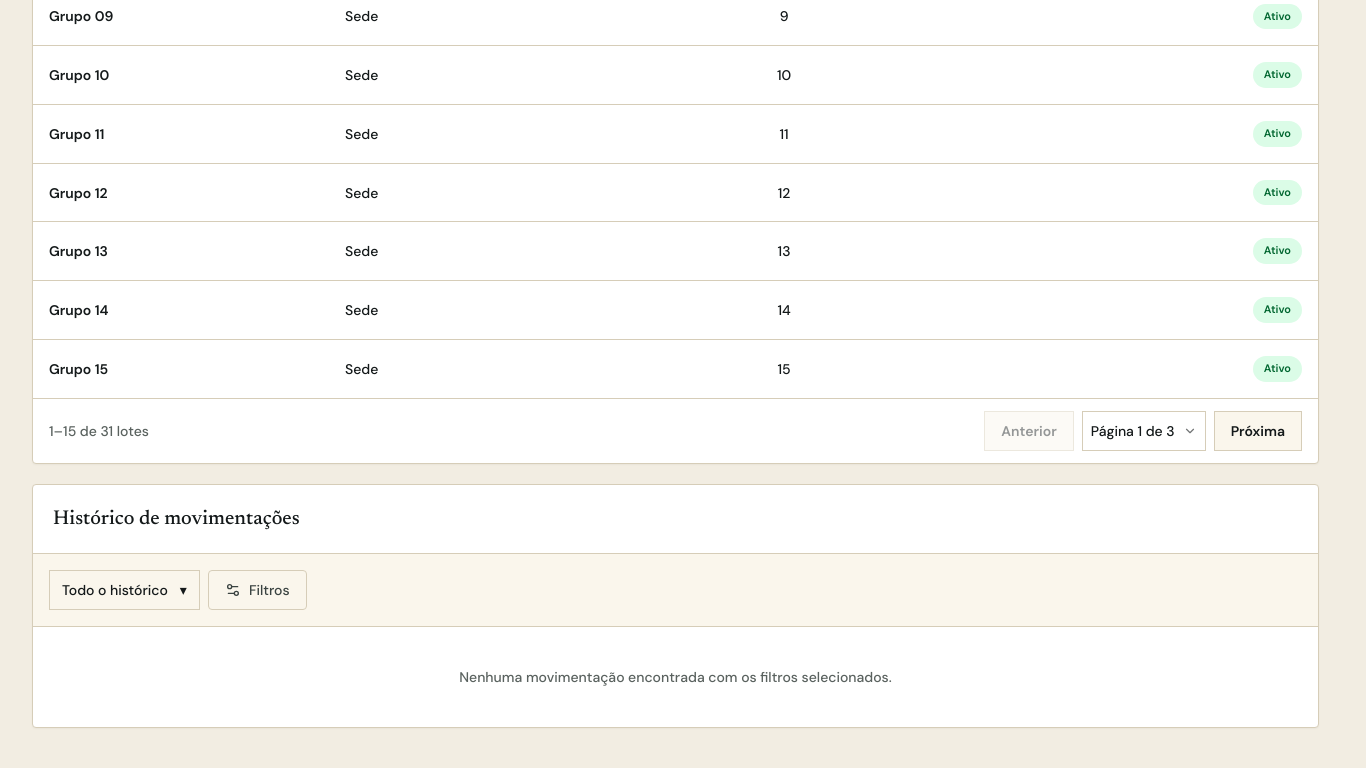
Test case: Lotes do rebanho › pagina 15 lotes e reinicia ao buscar
The width and height of the screenshot is (1366, 768).
(page scrolled)
Click the button "Próxima" at (1258, 430), box 1214,410 -> 1302,450
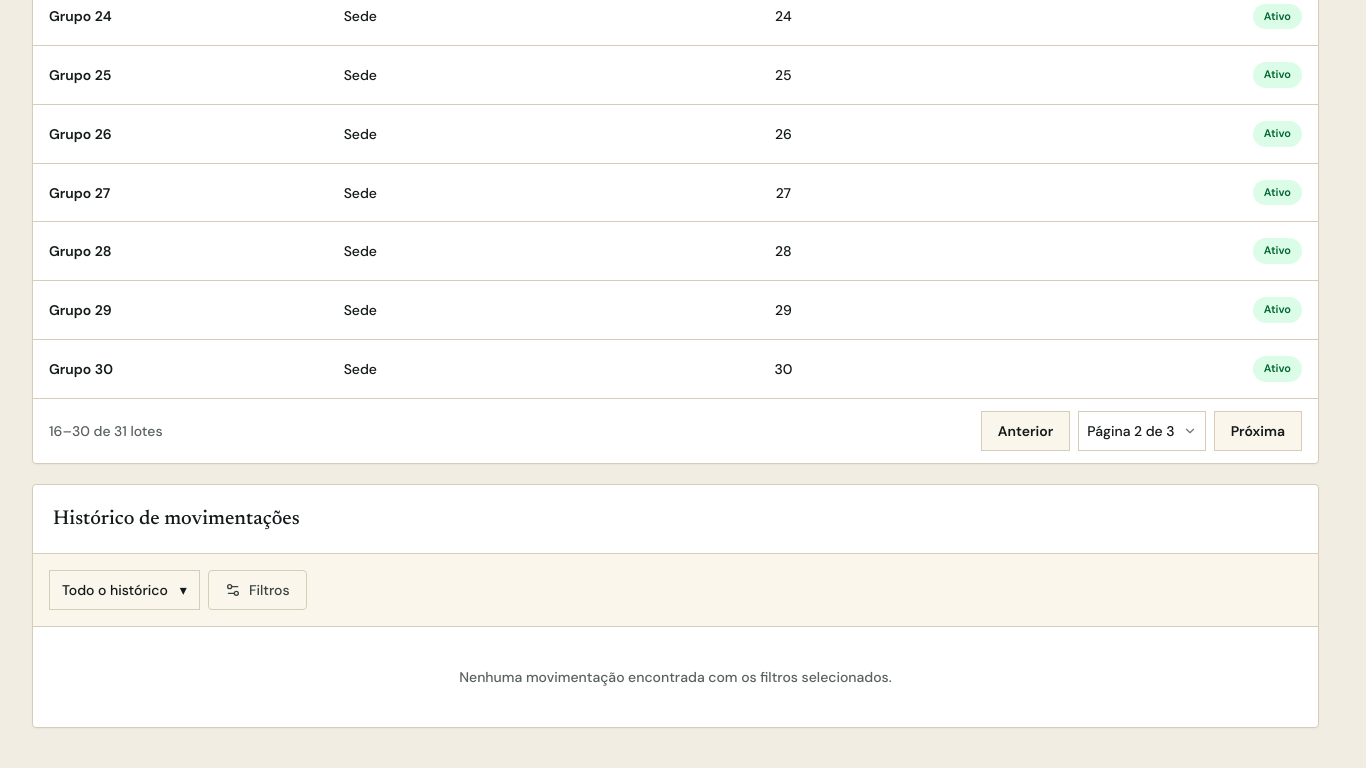
Click the button "Próxima" at (1258, 430), box 1214,410 -> 1302,450
(page scrolled)
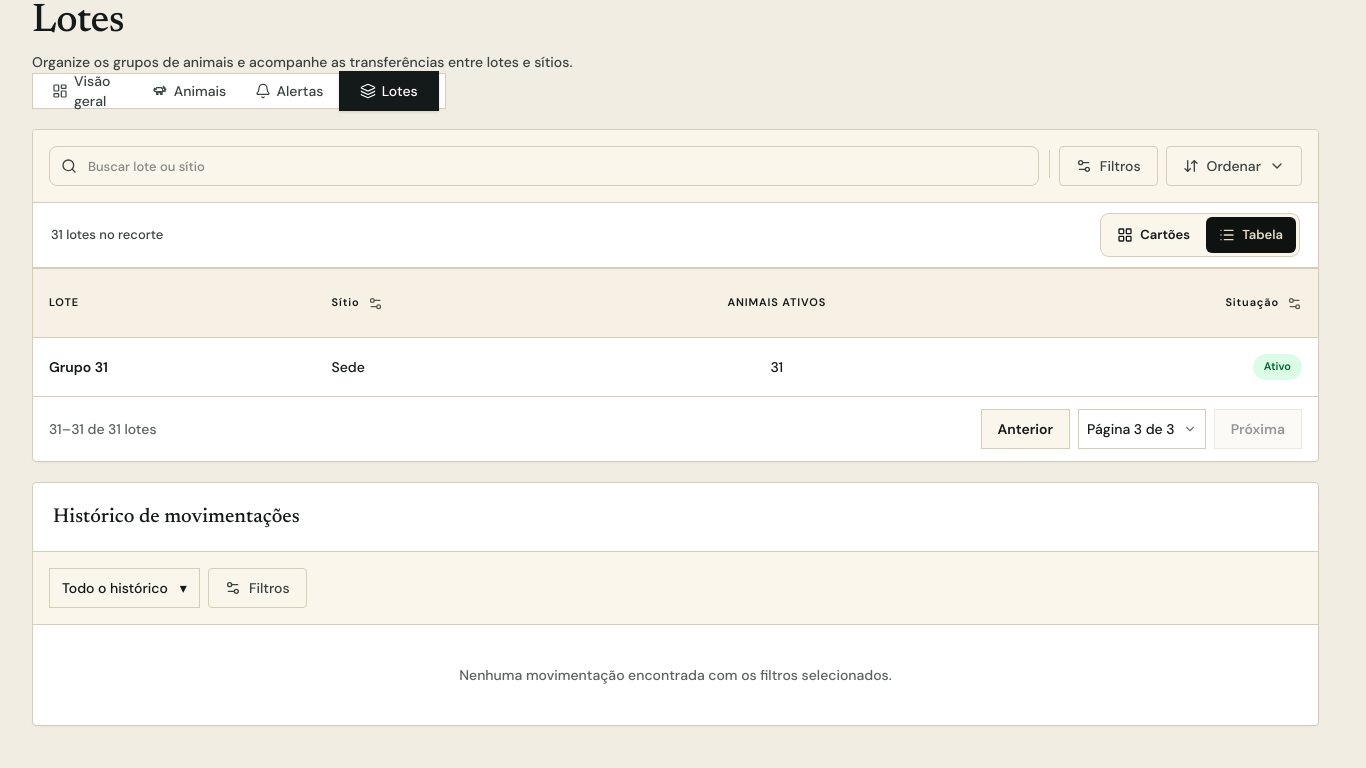
Result: the number of rows is 2 at 33,269 -> 1318,338; 33,338 -> 1318,396
Type "Grupo 02" into the search field labelled "Buscar lote" at (544, 166), box 49,146 -> 1039,186
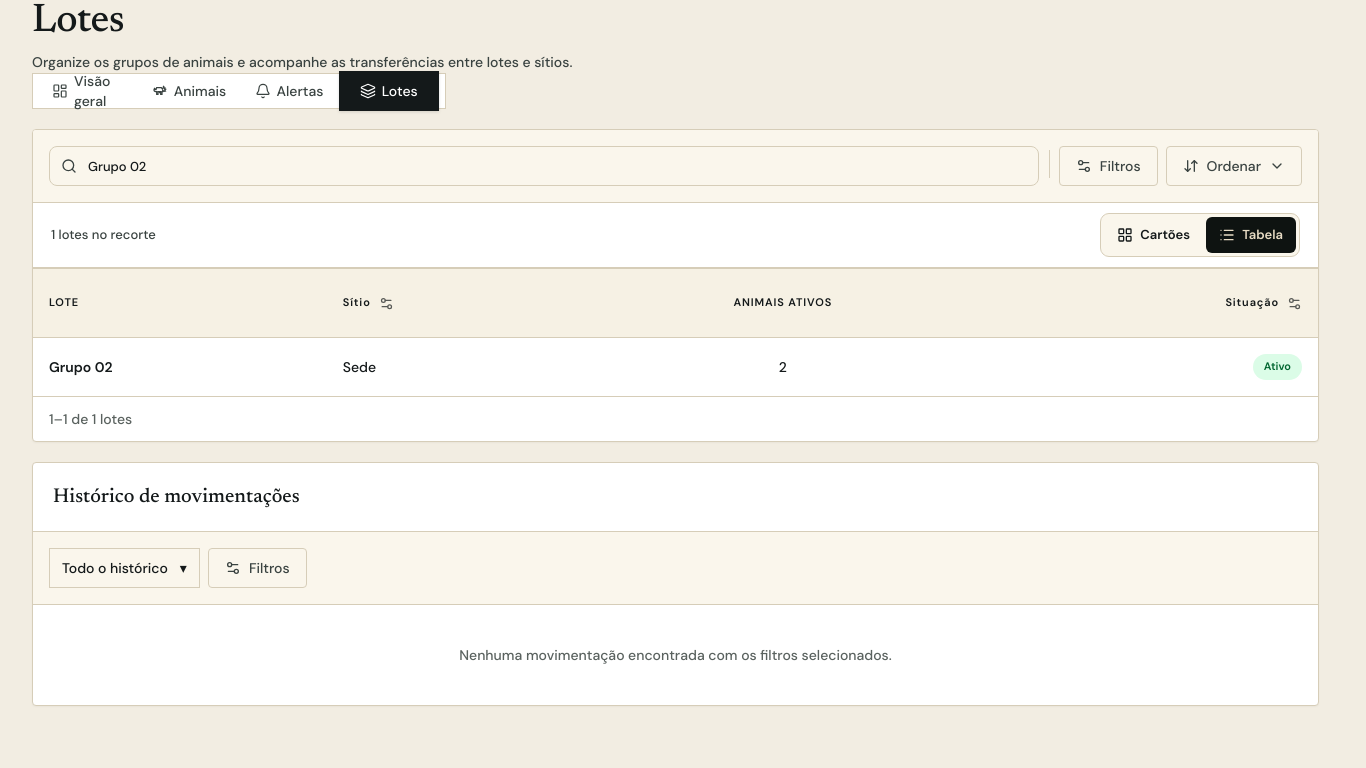
Result: the text "Grupo 02" is shown at 49,358 -> 112,376
Result: the button "Anterior" is gone
